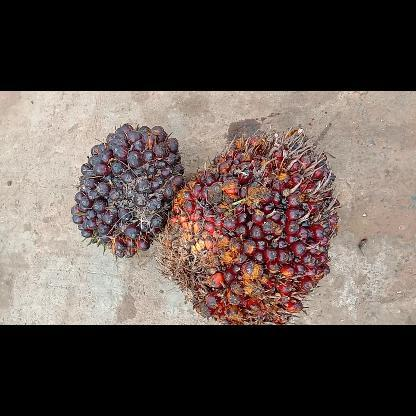TBS masak: (155, 126, 339, 324)
TBS mentah: (71, 123, 184, 257)
